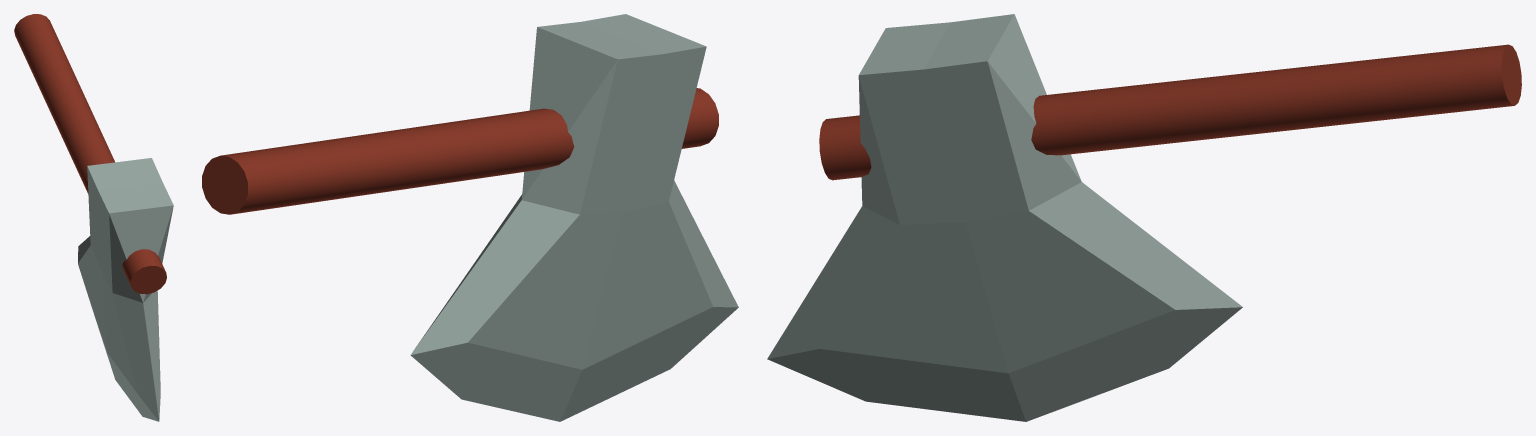
File: Axe.fbx
The picture shows the model from 3 angles, left to right: view 1: azimuth 30°, elevation 25°; view 2: azimuth 150°, elevation 25°; view 3: azimuth 270°, elevation 25°; orthographic projection. The views are drawn at different scales.
Parts seen in each view (by area): view 1: axe; view 2: axe; view 3: axe.
Part boxes in pixels (x1,y1,x2,y2): axe: (14,14,173,421); axe: (202,14,738,421); axe: (767,14,1521,421).
Size of the model in its own units: 41.67 by 80.26 by 130.
